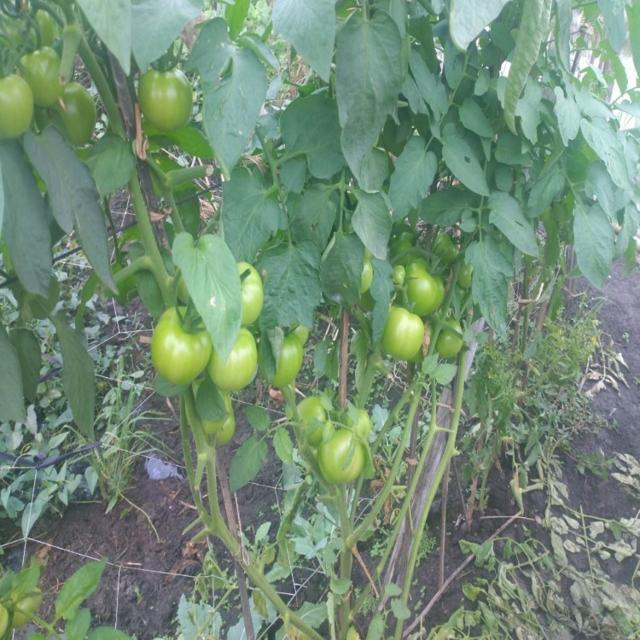tomato: (132, 62, 200, 132), (146, 306, 208, 373), (54, 80, 105, 146), (316, 423, 367, 485), (210, 326, 261, 387), (385, 299, 431, 365), (226, 262, 272, 326), (405, 253, 446, 322), (1, 61, 33, 140), (273, 339, 316, 396), (24, 43, 64, 102), (291, 394, 334, 440), (433, 316, 470, 366), (201, 403, 239, 450), (356, 250, 380, 297), (347, 404, 375, 441)
